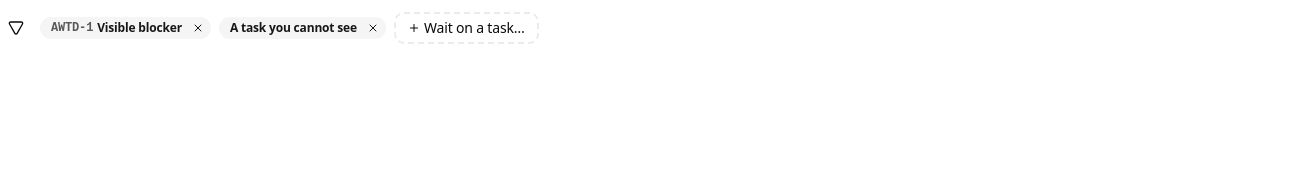
Test: TaskDetailBlockersRow (AWTD-1002) › never offers the task itself, a linked blocker, or one that would cycle — and ranks the board first
Check: the link "Visible blocker" is shown, box [97,20,182,36]
Click the button with test id "task-detail-add-blocker" at (466, 28), box [394,12,539,44]
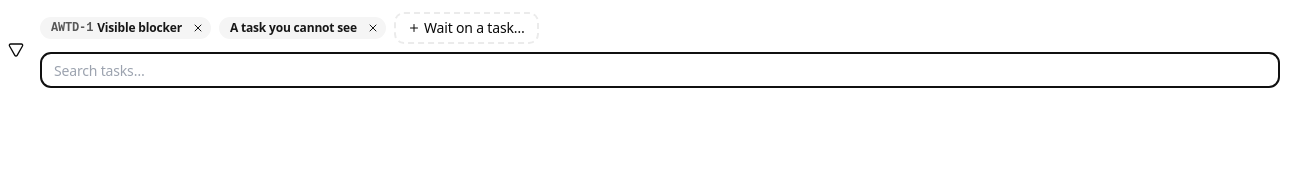
Type "ta" into the field at (660, 70), box [40,52,1280,88]
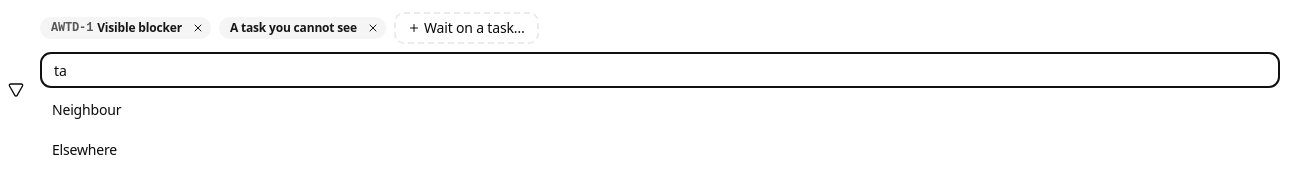
Check: the button "Neighbour" is shown, box [40,92,1280,128]
